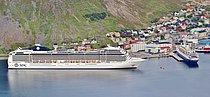Ship: (5, 43, 148, 74)
